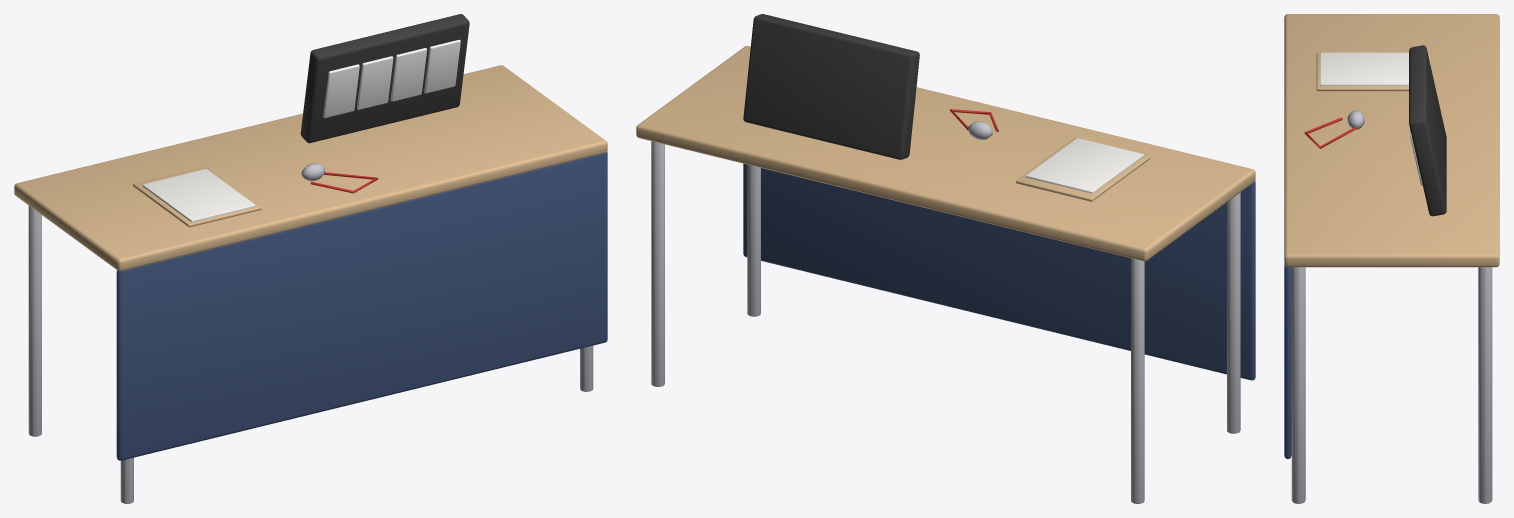
Rendered from scoretable.glb.
3 renders of one model, left to right at view 1: azimuth 30°, elevation 25°; view 2: azimuth 150°, elevation 25°; view 3: azimuth 270°, elevation 25°, orthographic. The views are drawn at different scales.
Visible parts, largest first — view 1: skirt, top, flipback, sheet, leg-1-1, flap3, flap0, flap1, flap2, clip; view 2: skirt, top, flipback, sheet, leg1-1, leg-1-1, leg-11, leg11, clip; view 3: top, flipback, leg1-1, leg11, sheet, skirt, clip, lanyard, whistle.
Part boxes in pixels (box(x1,y1,x2,y2)): skirt: box(116, 152, 607, 460); top: box(14, 65, 607, 270); flipback: box(300, 14, 469, 143); sheet: box(142, 169, 255, 222); leg-1-1: box(28, 206, 41, 436); flap3: box(424, 39, 460, 93); flap0: box(323, 64, 359, 117); flap1: box(357, 56, 393, 109); flap2: box(390, 48, 426, 101); clip: box(132, 166, 261, 227); skirt: box(743, 163, 1255, 380); top: box(636, 46, 1255, 261); flipback: box(743, 14, 919, 159); sheet: box(1025, 138, 1143, 193); leg1-1: box(651, 141, 664, 386); leg-1-1: box(1131, 258, 1144, 503); leg-11: box(1227, 192, 1240, 433); leg11: box(747, 164, 760, 316); clip: box(1015, 138, 1150, 201); top: box(1284, 14, 1499, 267); flipback: box(1409, 45, 1446, 216); leg1-1: box(1478, 267, 1492, 503); leg11: box(1291, 267, 1305, 503); sheet: box(1320, 52, 1408, 85); skirt: box(1284, 264, 1291, 458); clip: box(1316, 52, 1431, 91); lanyard: box(1304, 117, 1356, 148); whistle: box(1347, 110, 1364, 129).
Bounding box in the file's own units: 1.6 × 1.08 × 0.6.
